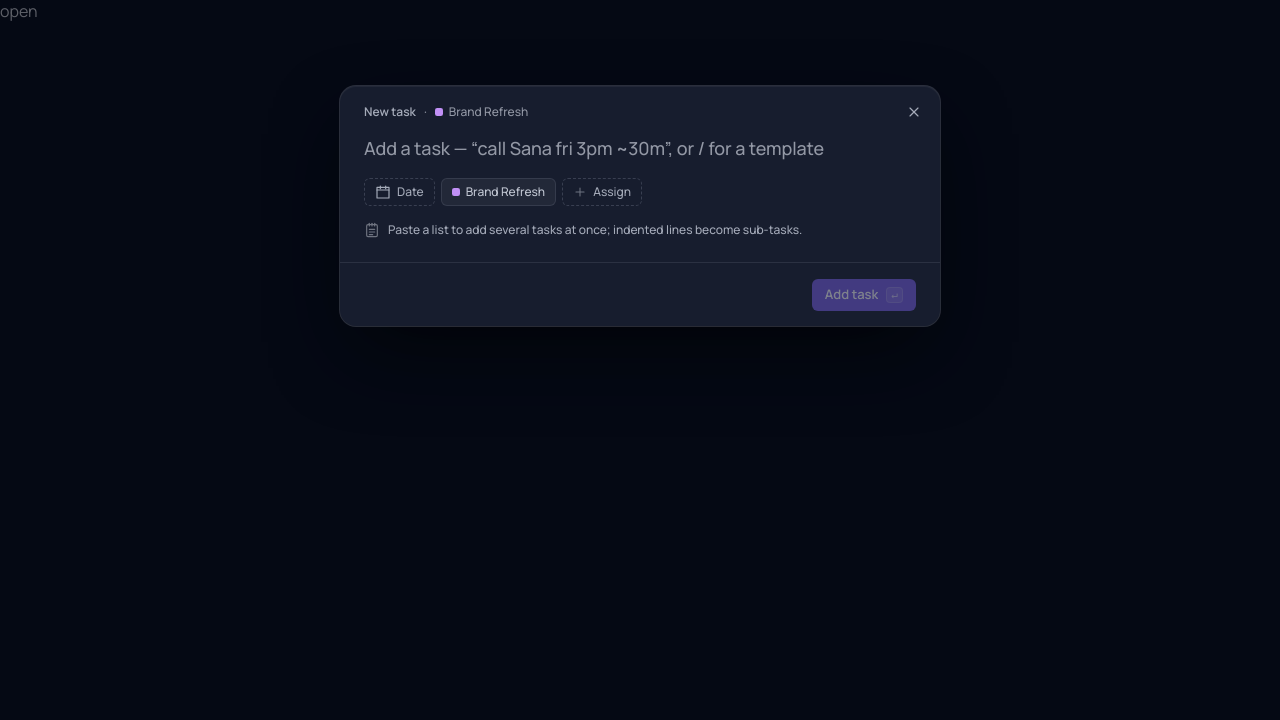
QuickCapture › ⇧⏎ adds and keeps the sheet open for the next one
The image size is (1280, 720).
Type "Draft the FAQ @maya !high" into the text box named "Quick capture a task" at x=640, y=148, box [364,134,916,162]
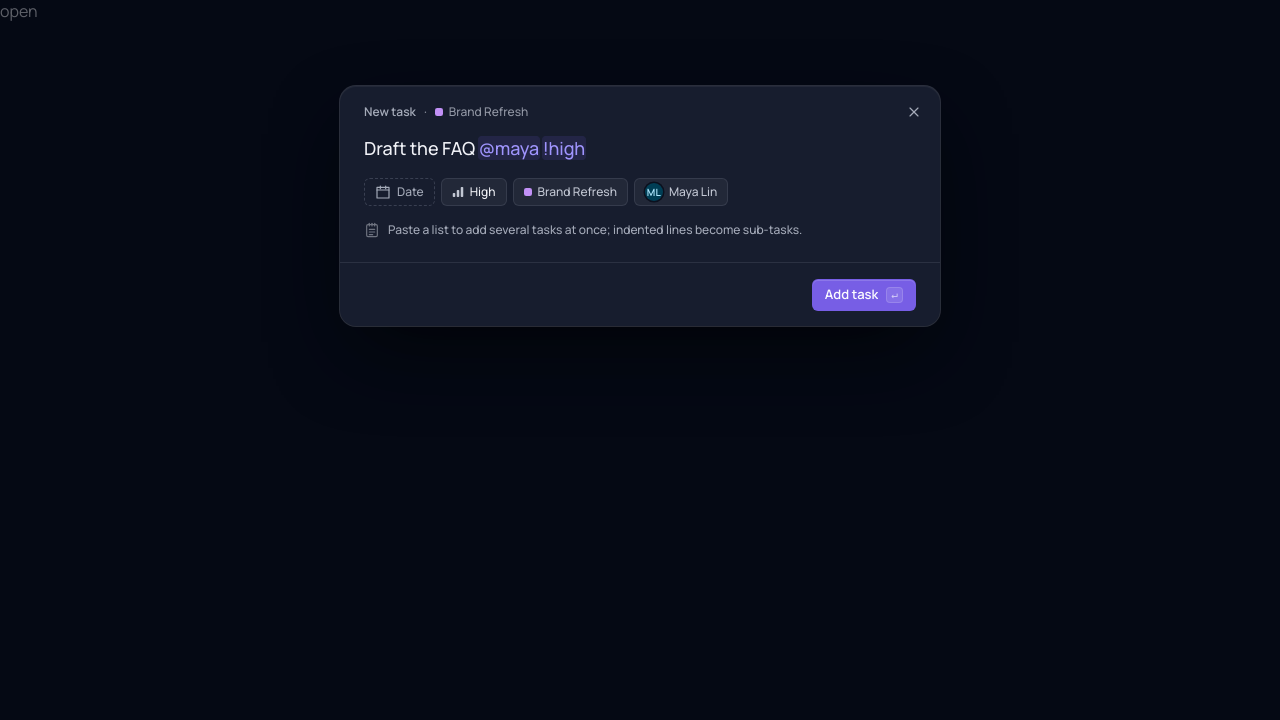
Press Enter in the text box named "Quick capture a task", box [364,134,916,162]
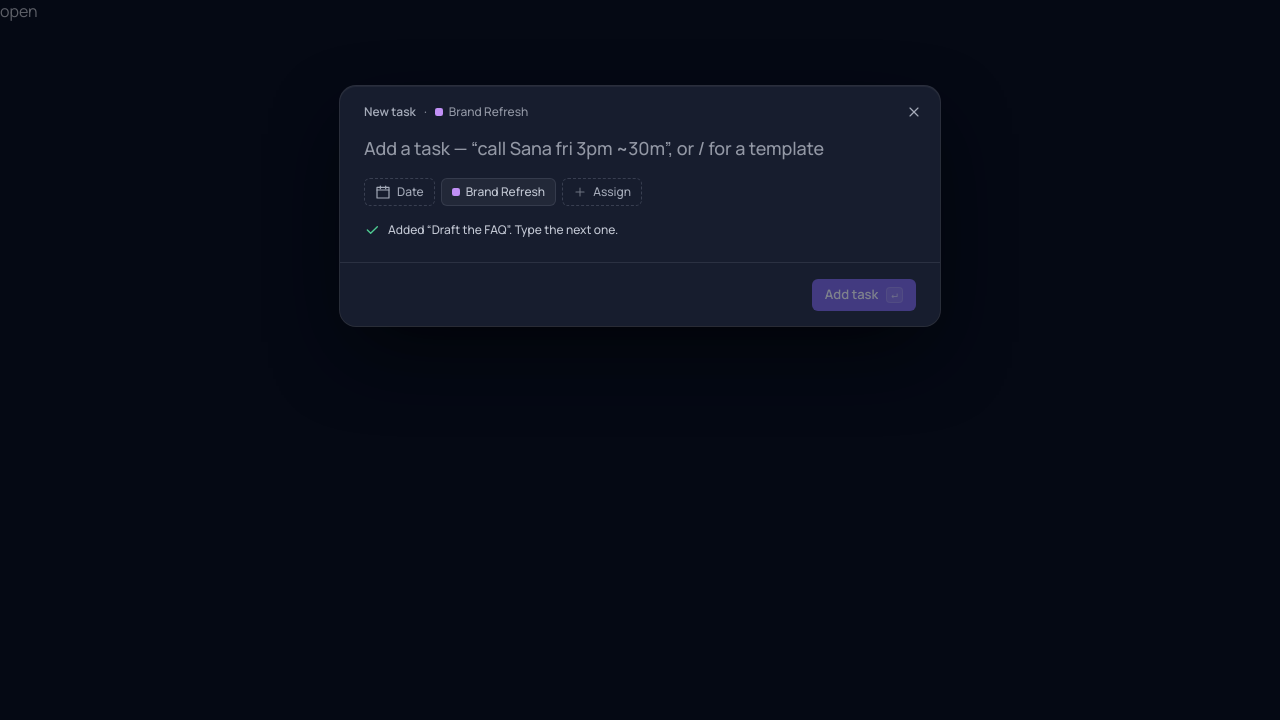
Expected: the text with test id "state" reads "open", [0,0,38,22]
Result: the text box named "Quick capture a task" is empty at [364,134,916,162]
Result: the text "Added “Draft the FAQ”. Type the next one." is shown at [388,222,618,238]
